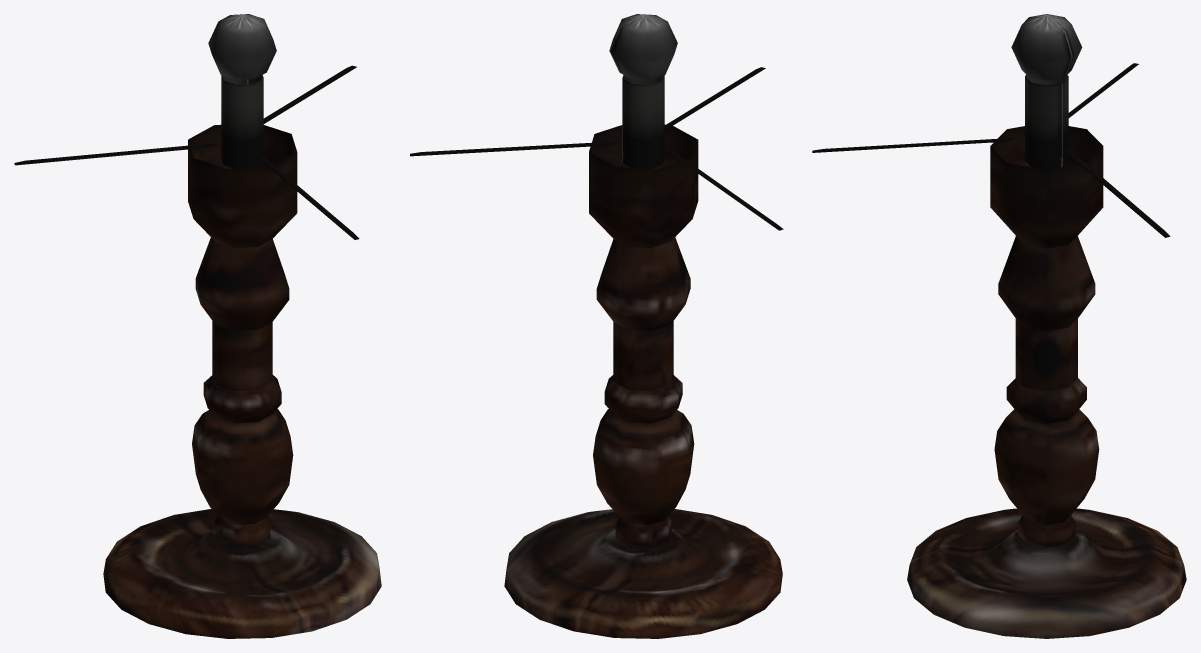
Rendered from lampe02.fbx.
3 views of the same model, side by side, from view 1: azimuth 30°, elevation 25°; view 2: azimuth 150°, elevation 25°; view 3: azimuth 270°, elevation 25° (orthographic).
Visible parts, largest first — view 1: lampe02; view 2: lampe02; view 3: lampe02.
Boxes of the visible parts, x1=… form: lampe02: x1=14, y1=14, x2=381, y2=638; lampe02: x1=410, y1=14, x2=783, y2=638; lampe02: x1=812, y1=14, x2=1186, y2=638.
Bounding box in the file's own units: 29.08 × 43.87 × 26.36.
